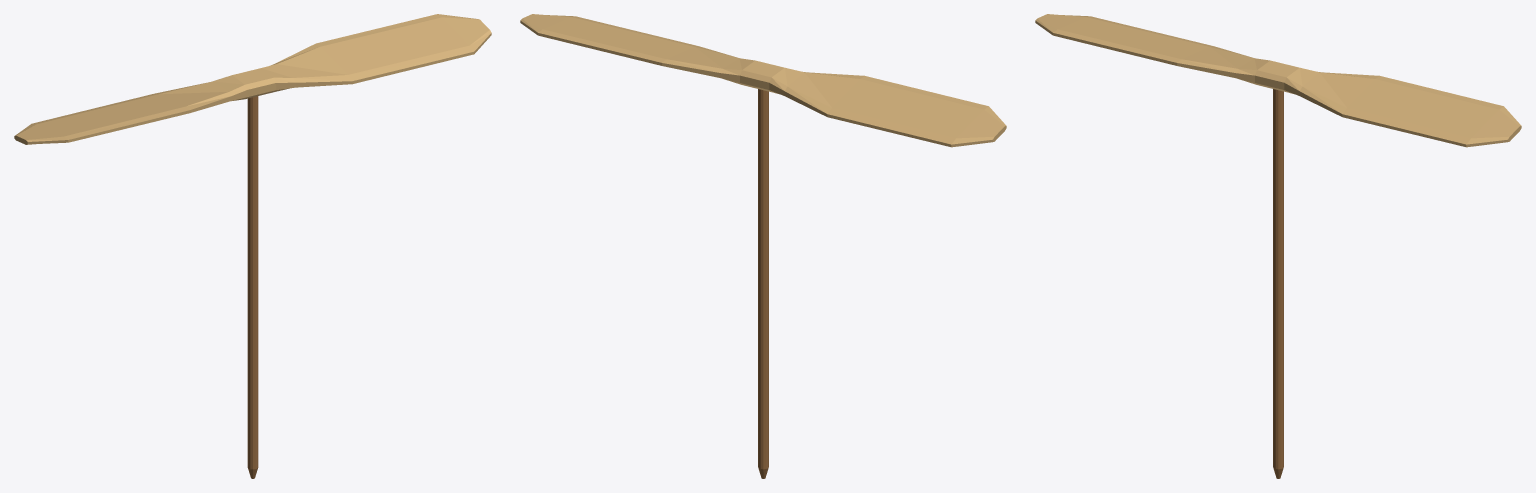
3 views of the same model, side by side, from view 1: azimuth 30°, elevation 25°; view 2: azimuth 150°, elevation 25°; view 3: azimuth 330°, elevation 25° (orthographic).
Visible parts, largest first — view 1: ContinuousTwinPitchedWoodRotor, LongHandRollingShaft; view 2: ContinuousTwinPitchedWoodRotor, LongHandRollingShaft; view 3: ContinuousTwinPitchedWoodRotor, LongHandRollingShaft.
Part boxes in pixels (x1,y1,x2,y2): ContinuousTwinPitchedWoodRotor: [14, 14, 491, 144]; LongHandRollingShaft: [247, 96, 258, 478]; ContinuousTwinPitchedWoodRotor: [520, 14, 1006, 147]; LongHandRollingShaft: [758, 89, 768, 478]; ContinuousTwinPitchedWoodRotor: [1035, 14, 1521, 147]; LongHandRollingShaft: [1273, 89, 1283, 478].
Size of the model in its own units: 0.28 by 0.2317 by 0.0385.
